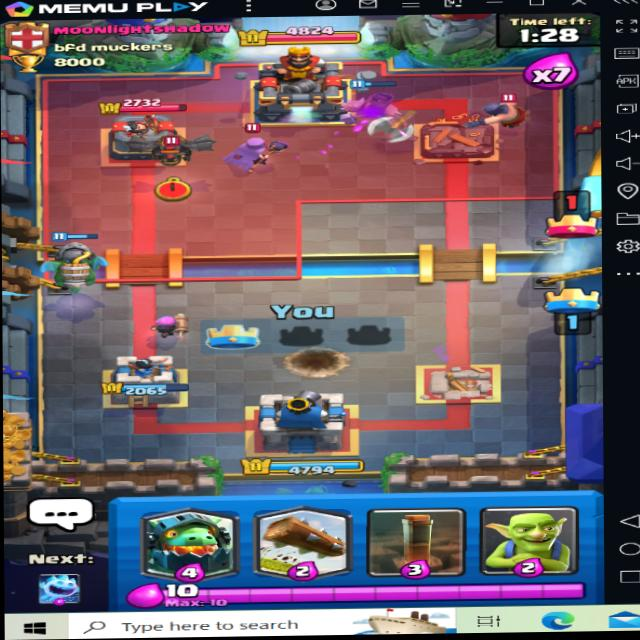executioner: (486, 88, 545, 130)
lava-hound: (121, 131, 217, 170)
mother-witch: (228, 122, 291, 176)
